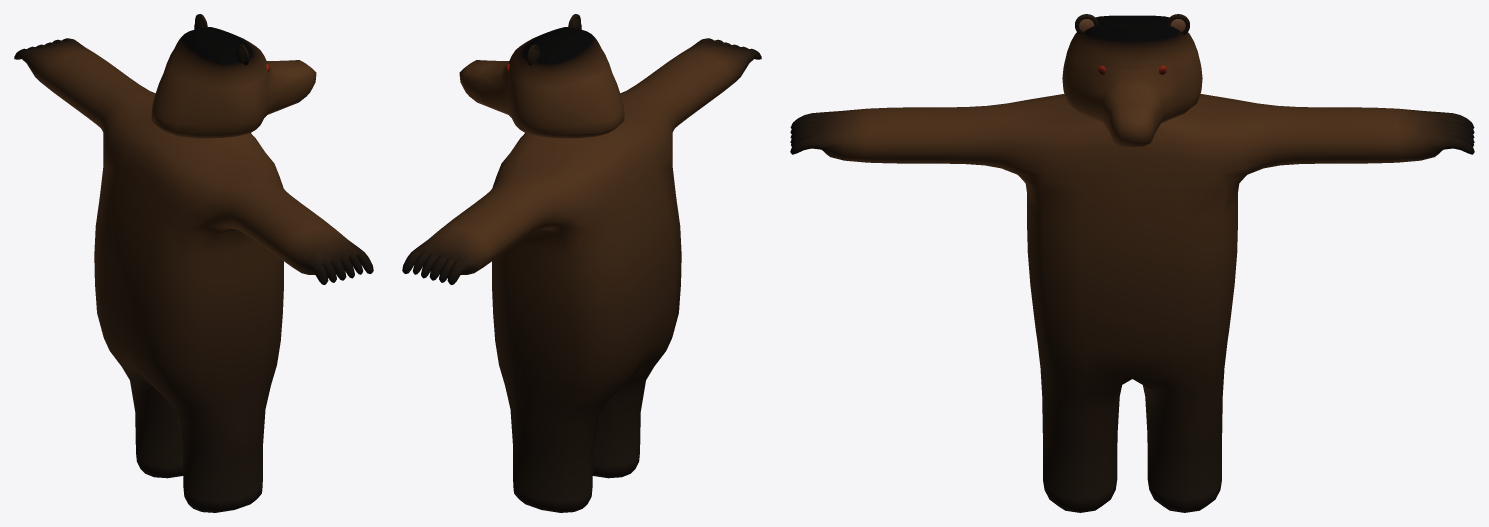
The model's file is Winnie.fbx.
The picture shows the model from 3 angles, left to right: view 1: azimuth 30°, elevation 25°; view 2: azimuth 150°, elevation 25°; view 3: azimuth 270°, elevation 25°; orthographic projection. The views are drawn at different scales.
Visible parts, largest first — view 1: Cube; view 2: Cube; view 3: Cube.
Boxes of the visible parts, left/top/right/bottom form: Cube: left=14, top=27, right=373, bottom=512; Cube: left=402, top=27, right=761, bottom=512; Cube: left=790, top=15, right=1474, bottom=512.
Bounding box in the file's own units: 65.28 × 148 × 185.
Materials: 3 (3 with a texture image).
